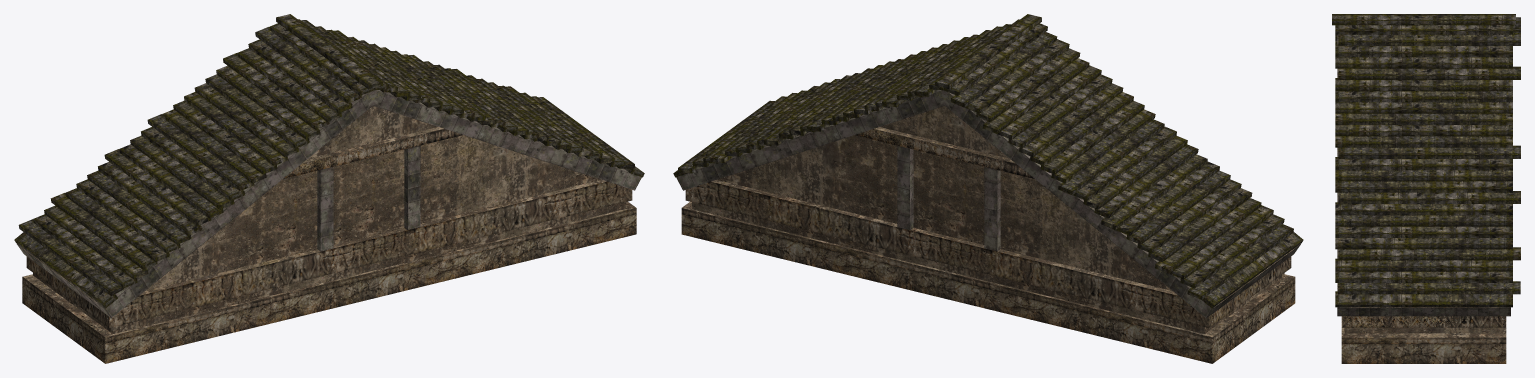
Rendered from materials_5_roof_8.fbx.
3 renders of one model, left to right at view 1: azimuth 30°, elevation 25°; view 2: azimuth 150°, elevation 25°; view 3: azimuth 270°, elevation 25°, orthographic.
Parts seen in each view (by area): view 1: materials_5_roof_8; view 2: materials_5_roof_8; view 3: materials_5_roof_8.
Part boxes in pixels (box(x1,y1,x2,y2)): materials_5_roof_8: box(14, 14, 644, 363); materials_5_roof_8: box(673, 14, 1303, 363); materials_5_roof_8: box(1332, 14, 1520, 363).
Size of the model in its own units: 620 by 240 by 189.
